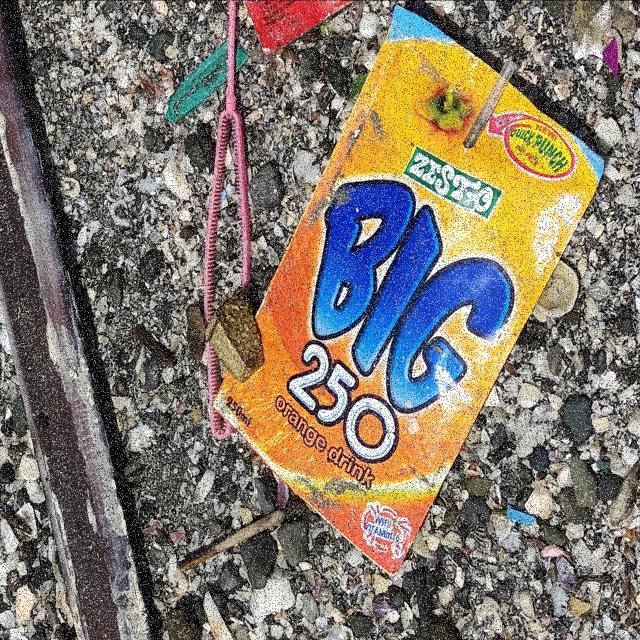plastic_waste: (214, 4, 606, 578)
